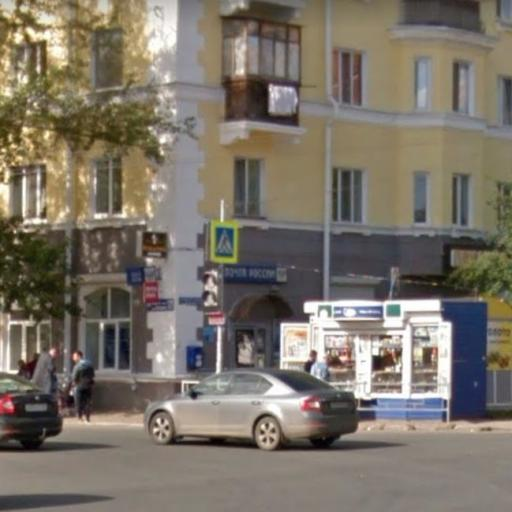traffic_sign: (207, 218, 243, 266)
